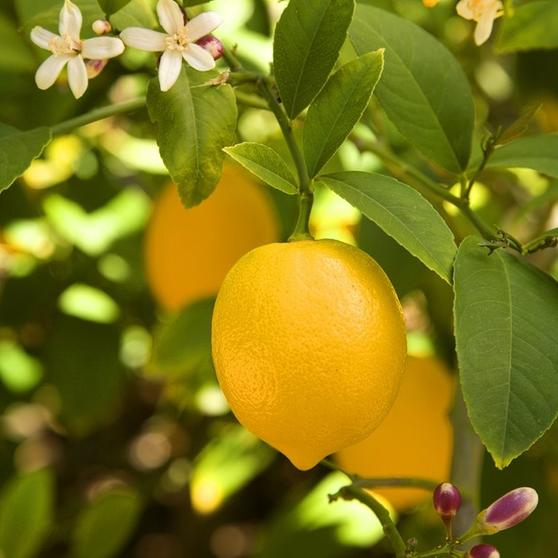lemon: (208, 234, 412, 472)
